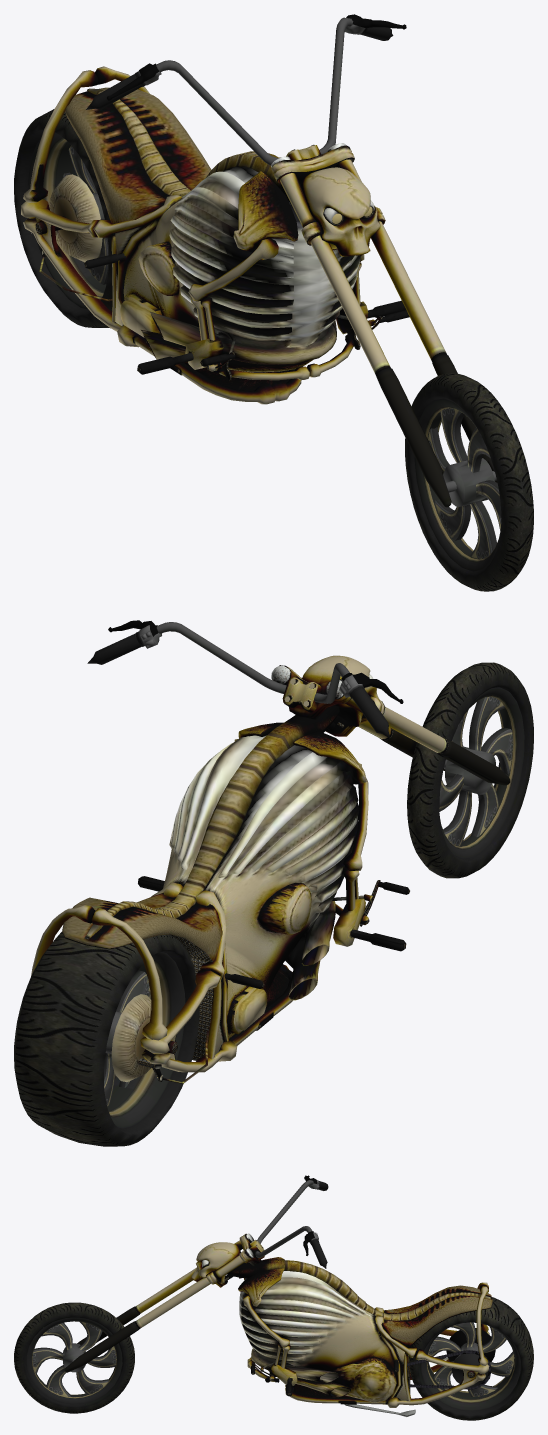
Rendered from ghost rider bike2.glb.
3 renders of one model, top to bottom at view 1: azimuth 30°, elevation 25°; view 2: azimuth 150°, elevation 25°; view 3: azimuth 270°, elevation 25°, orthographic. The views are drawn at different scales.
Visible parts, largest first — view 1: Object_2, Object_3, Wheel_F, Wheel_B, WheelChain_F, WheelChain_B; view 2: Object_2, Object_3, Wheel_B, Wheel_F, WheelChain_F, WheelChain_B; view 3: Object_2, Object_3, Wheel_B, Wheel_F, WheelChain_F, WheelChain_B.
Part boxes in pixels (x1,y1,x2,y2): Object_2: (21,17,451,507); Object_3: (42,14,497,482); Wheel_F: (405,373,533,591); Wheel_B: (14,109,112,328); WheelChain_F: (428,408,501,558); WheelChain_B: (35,145,108,284); Object_2: (31,622,510,1083); Object_3: (87,620,446,1081); Wheel_B: (14,934,199,1146); Wheel_F: (407,662,533,878); WheelChain_F: (439,696,512,846); WheelChain_B: (104,970,177,1106); Object_2: (77,1180,492,1416); Object_3: (64,1175,491,1397); Wheel_B: (408,1297,533,1420); Wheel_F: (14,1302,134,1413); WheelChain_F: (32,1322,116,1396); WheelChain_B: (428,1322,514,1396).
Size of the model in its own units: 1.08 by 1.3 by 2.91.
2 materials, 2 textured.
